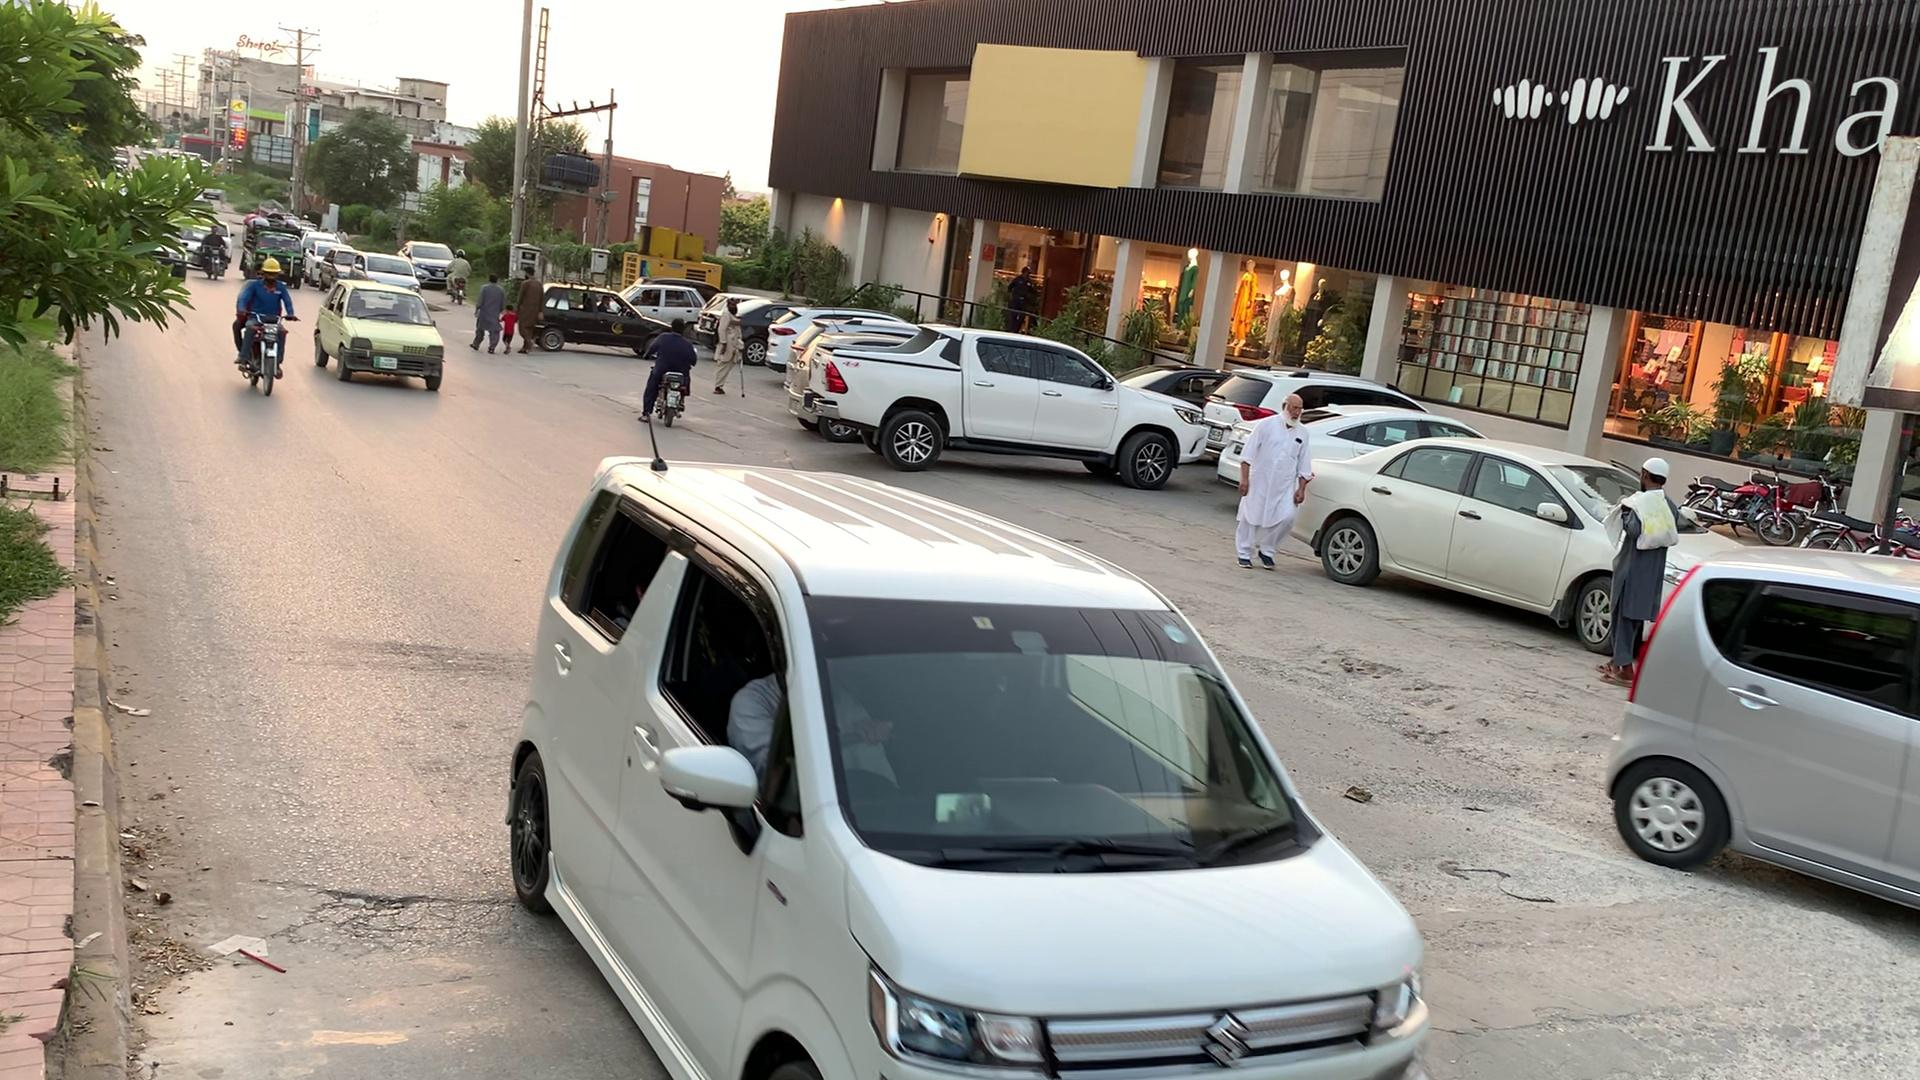windshield: (798, 583, 1300, 873), (348, 287, 439, 326)
